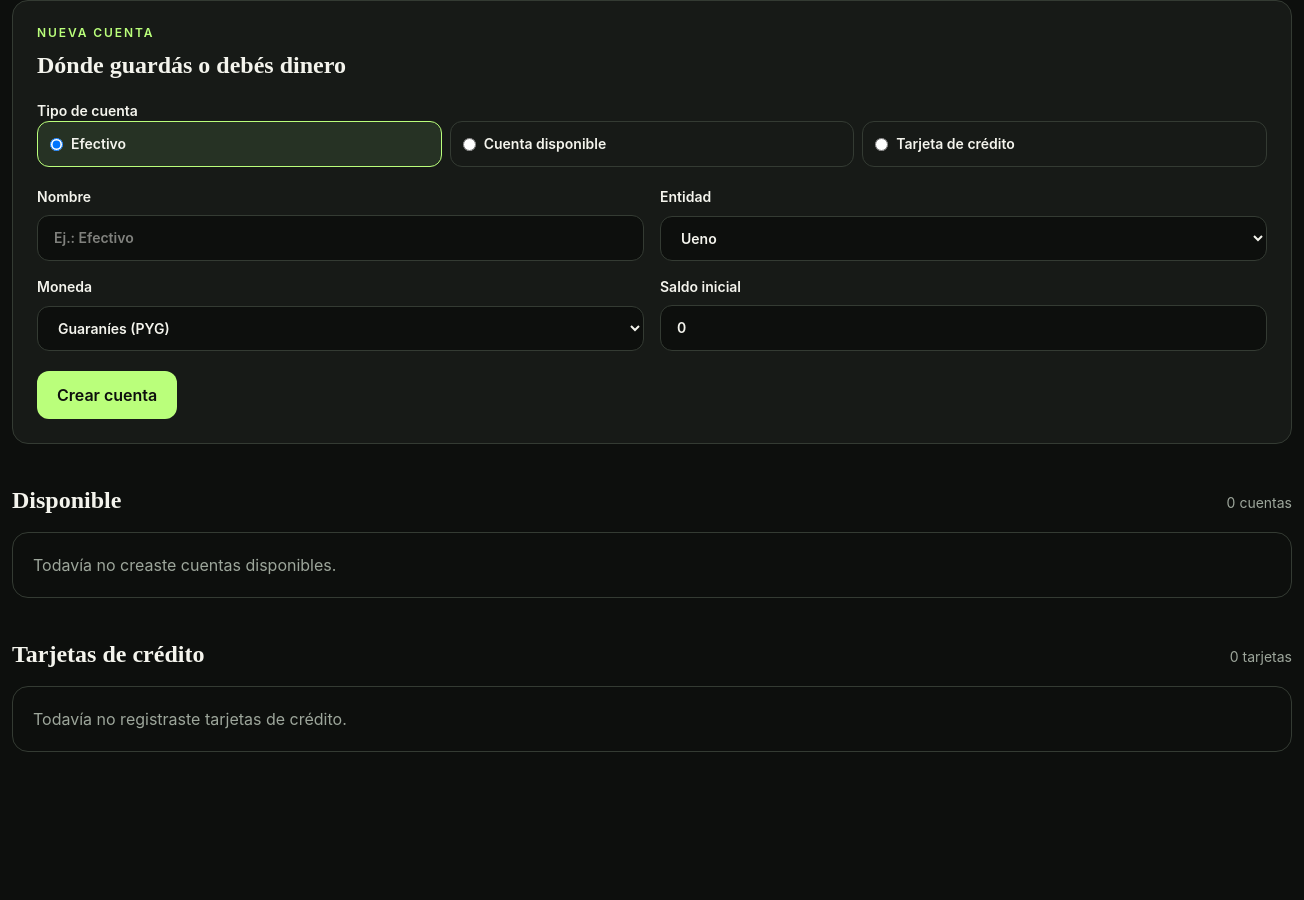
Test case: AccountsContent › renders the server ledger and refreshes it after account creation
Expected: the text "Todavía no creaste cuentas disponibles." is shown, [12,532,1292,598]
Type "Efectivo" into the field labelled "Nombre" at [340, 238], box [37,215,644,261]
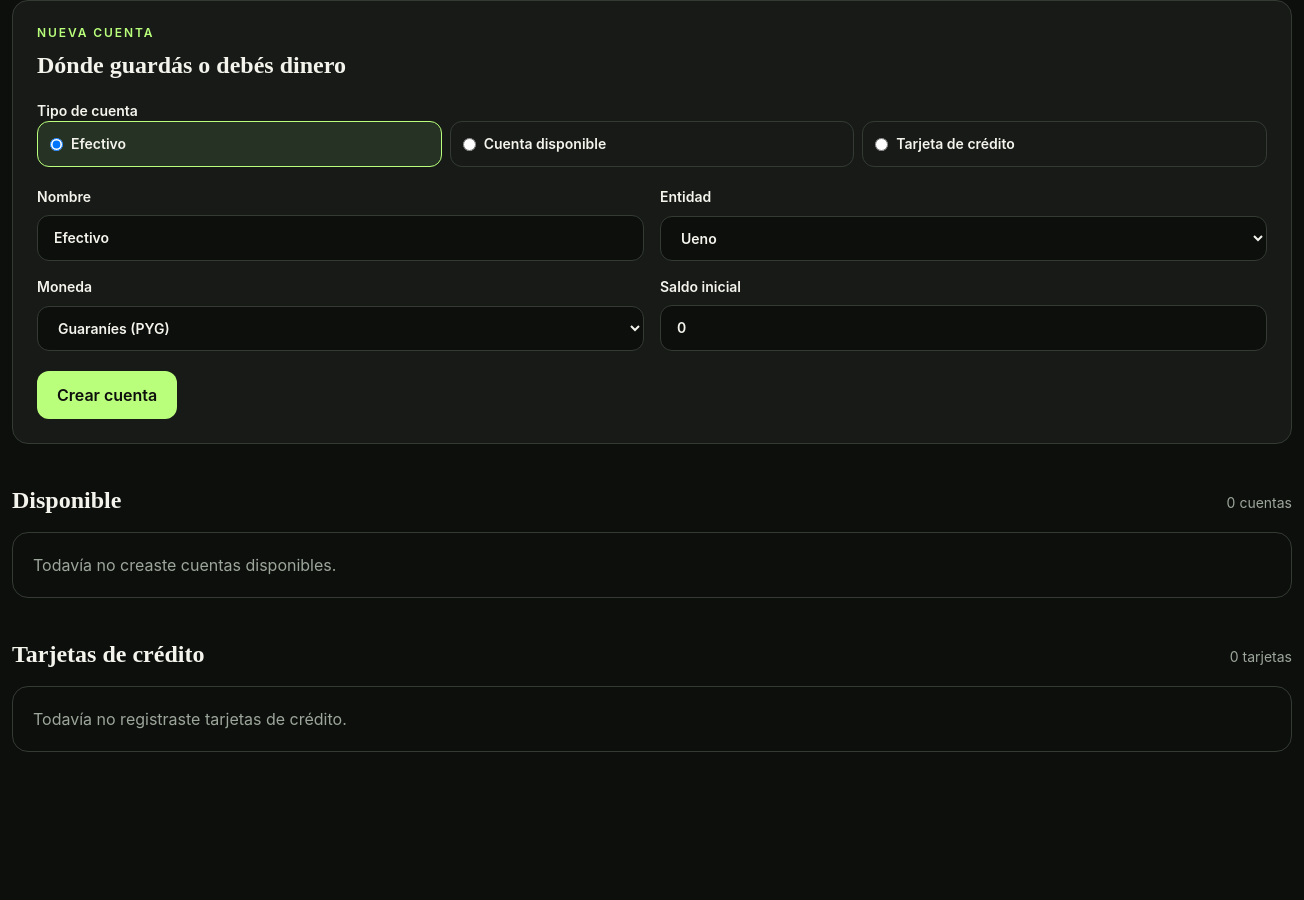
Submit the form named "Crear cuenta", box [12,0,1292,444]
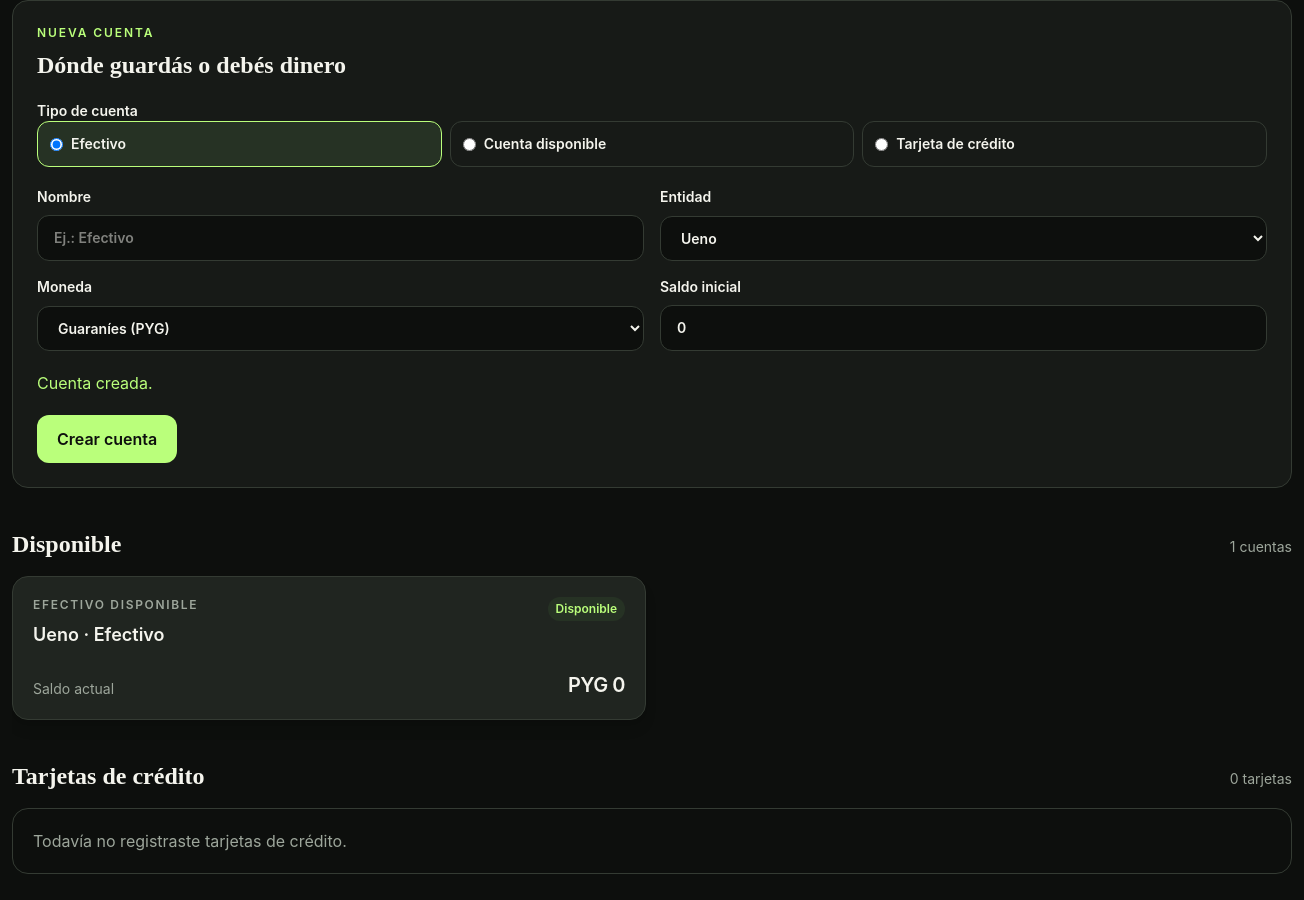
Result: the text "Cuenta creada." is shown at [37,373,152,393]
Result: the heading "Ueno · Efectivo" is shown at [33,624,164,645]
